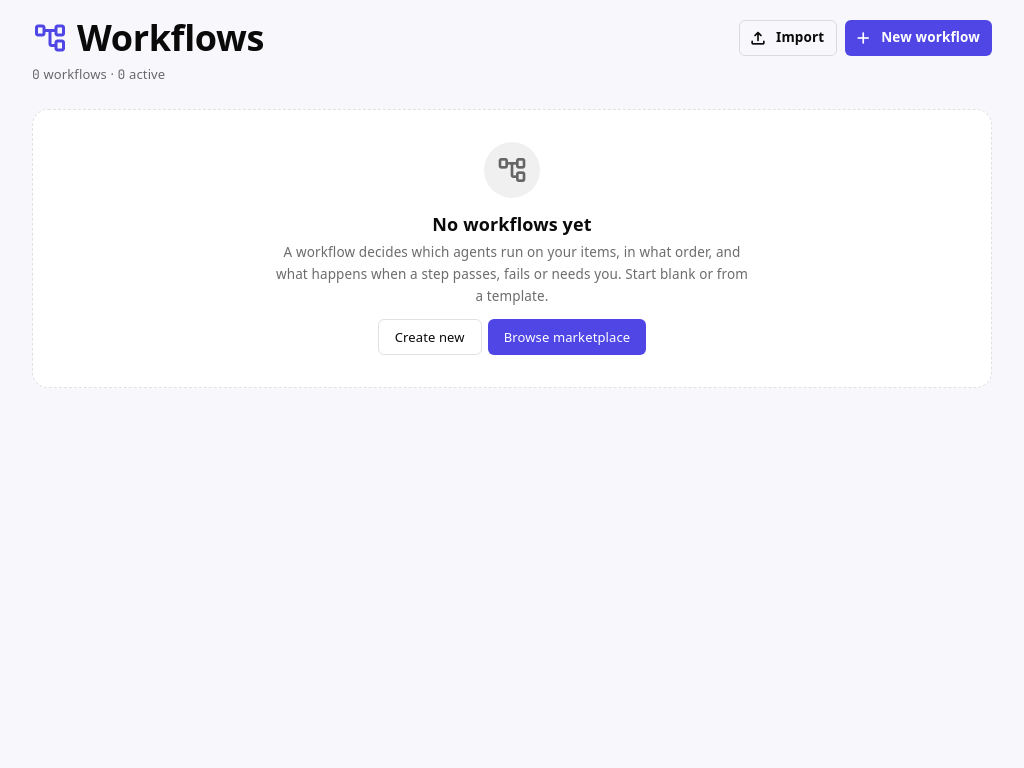
Test case: Workflows page › lists the sub-templates’ agents too, not just the parent graph’s
Click the button "New workflow" at (919, 38), box [845,20,992,56]
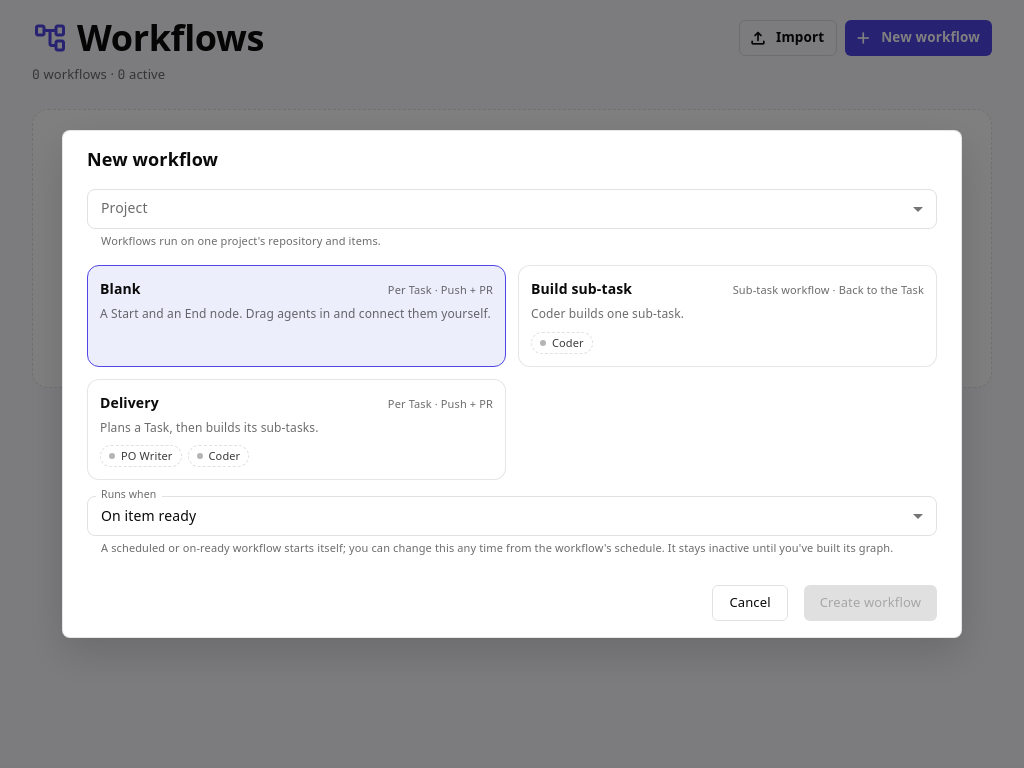
Click the radio button labelled "Delivery" at (296, 429), box [87,379,506,480]
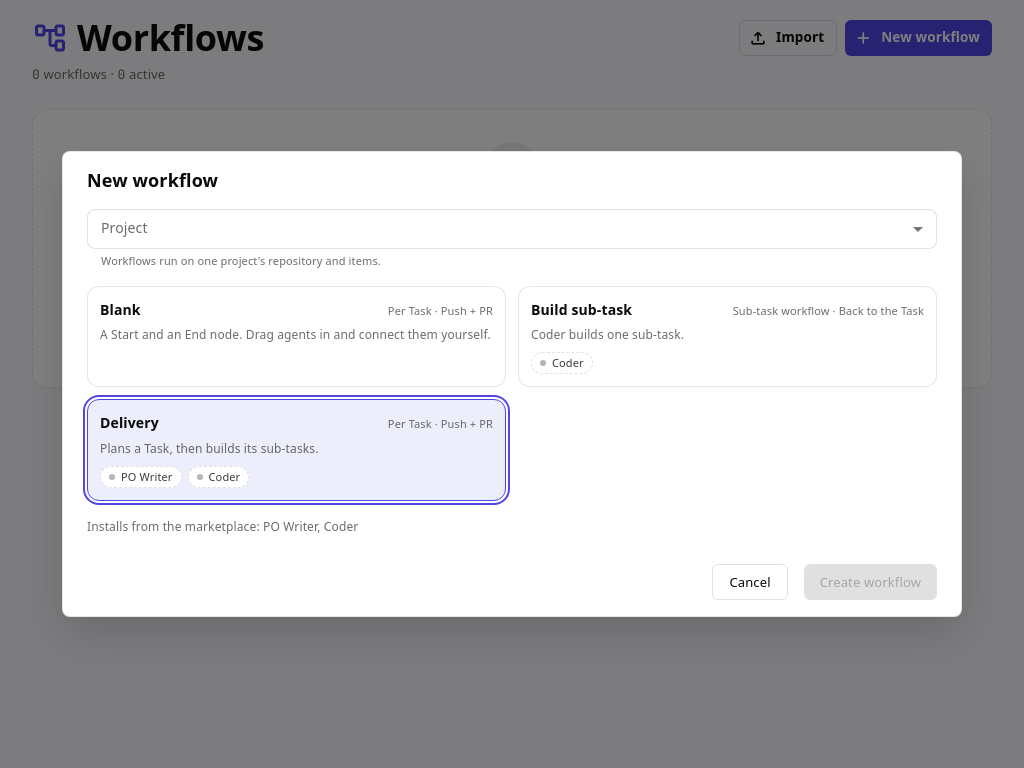
Expected: the text "Installs from the marketplace: PO Writer, Coder" is shown, [87,518,358,535]
